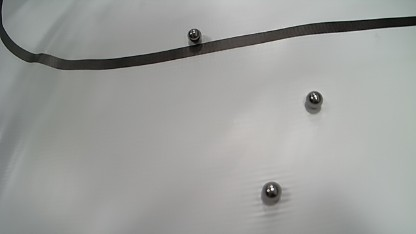ironball: (261, 181, 282, 206), (305, 91, 323, 109), (187, 28, 201, 42)
